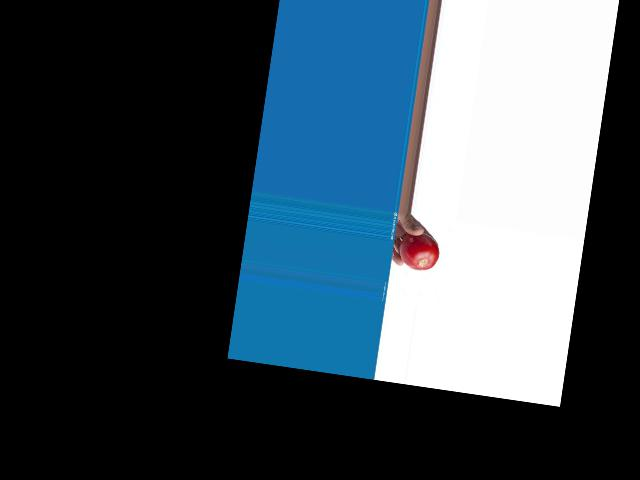tomato: (396, 229, 441, 273)
